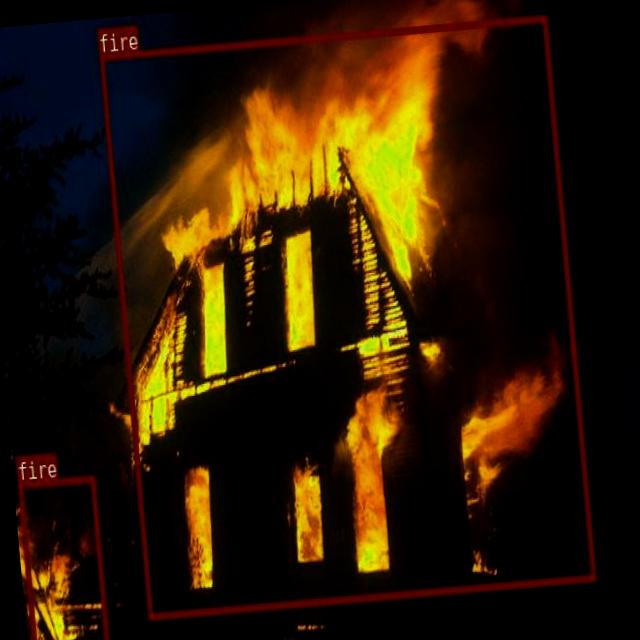fire: (98, 13, 594, 619), (17, 474, 109, 640)
